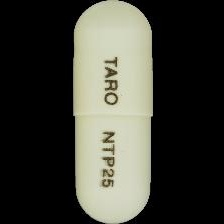63187-396: (0, 0, 224, 224)
